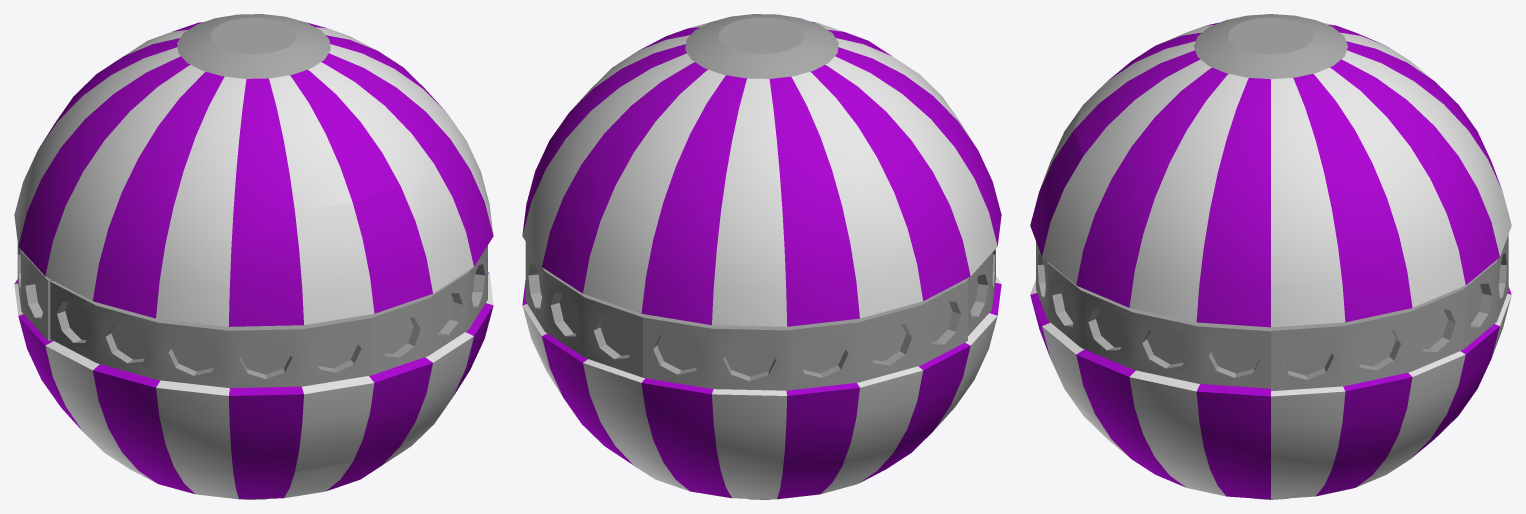
Rendered from BossTama.fbx.
The picture shows the model from 3 angles, left to right: view 1: azimuth 30°, elevation 25°; view 2: azimuth 150°, elevation 25°; view 3: azimuth 270°, elevation 25°; orthographic projection.
Parts seen in each view (by area): view 1: polySurface47, polySurface23, polySurface50, polySurface51, pCylinder26, polySurface26, polySurface25; view 2: polySurface47, polySurface25, pCylinder26, polySurface24, polySurface23; view 3: polySurface47, polySurface24, polySurface26, pCylinder26, polySurface50.
Boxes of the visible parts, <box> form: polySurface47: <box>14,21,493,499</box>; polySurface23: <box>50,281,371,388</box>; polySurface50: <box>295,186,432,324</box>; polySurface51: <box>295,357,432,471</box>; pCylinder26: <box>177,14,330,78</box>; polySurface26: <box>368,245,487,374</box>; polySurface25: <box>17,243,53,340</box>; polySurface47: <box>522,21,1001,499</box>; polySurface25: <box>643,280,967,390</box>; pCylinder26: <box>685,14,838,78</box>; polySurface24: <box>525,242,646,377</box>; polySurface23: <box>964,249,995,335</box>; polySurface47: <box>1042,22,1511,499</box>; polySurface24: <box>1271,234,1508,391</box>; polySurface26: <box>1036,242,1270,388</box>; pCylinder26: <box>1193,14,1348,79</box>; polySurface50: <box>1030,105,1083,256</box>.
Bounding box in the file's own units: 134 × 139 × 134.
